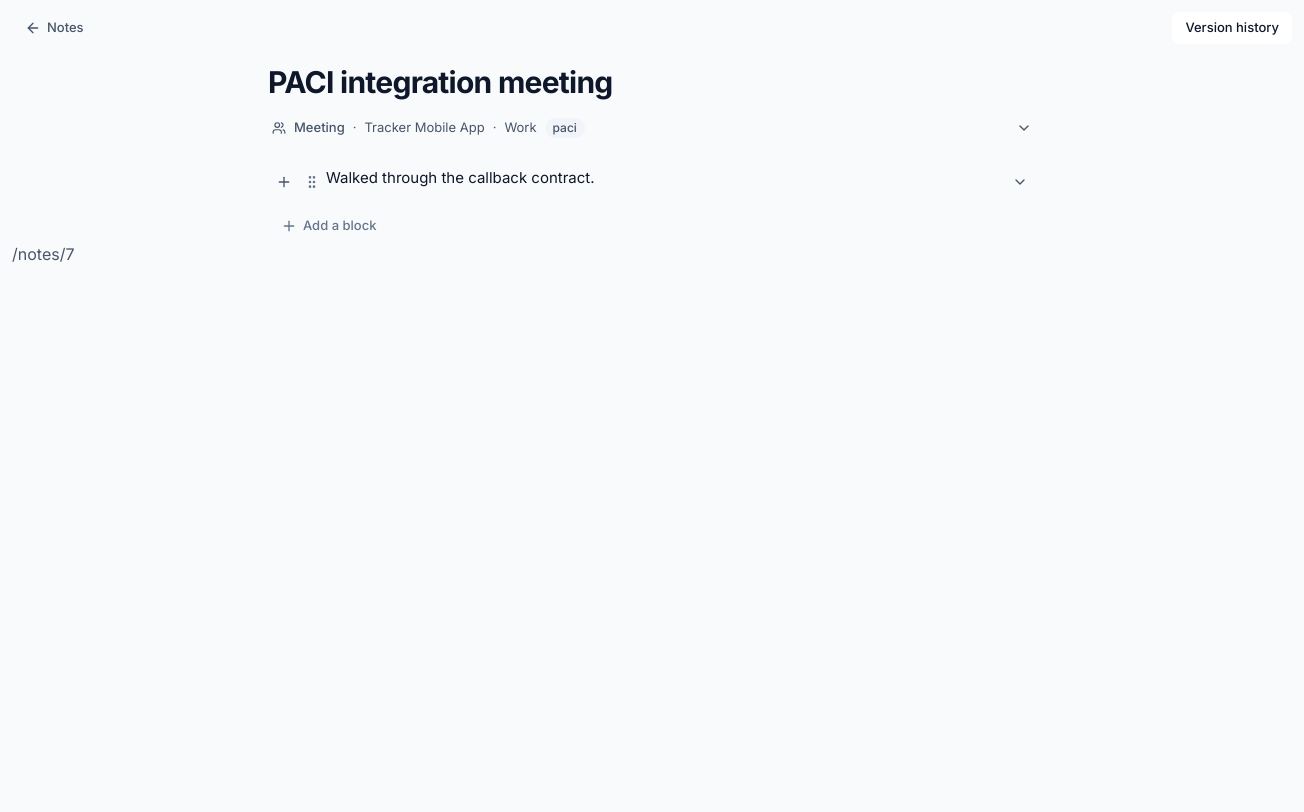
NotePage - version restore (blocking review on #301) › shows the restored title, body and blocks once the restore has succeeded
This screenshot has width=1304, height=812.
Expected: the 1st text box named "Note title" is shown, [268, 60, 1036, 104]
Click the button "Version history" at (1232, 28), box [1172, 12, 1292, 44]
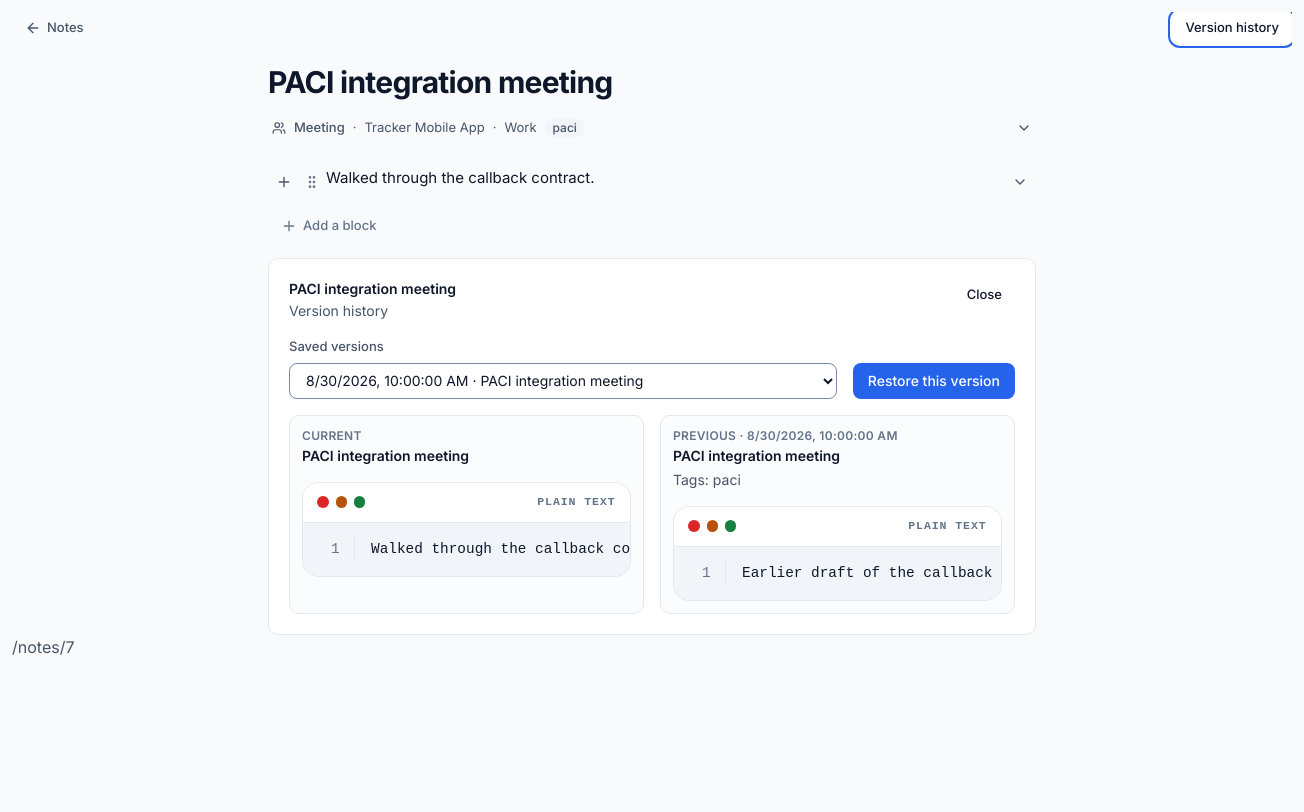
Click the button "Restore this version" at (934, 380), box [853, 362, 1015, 398]
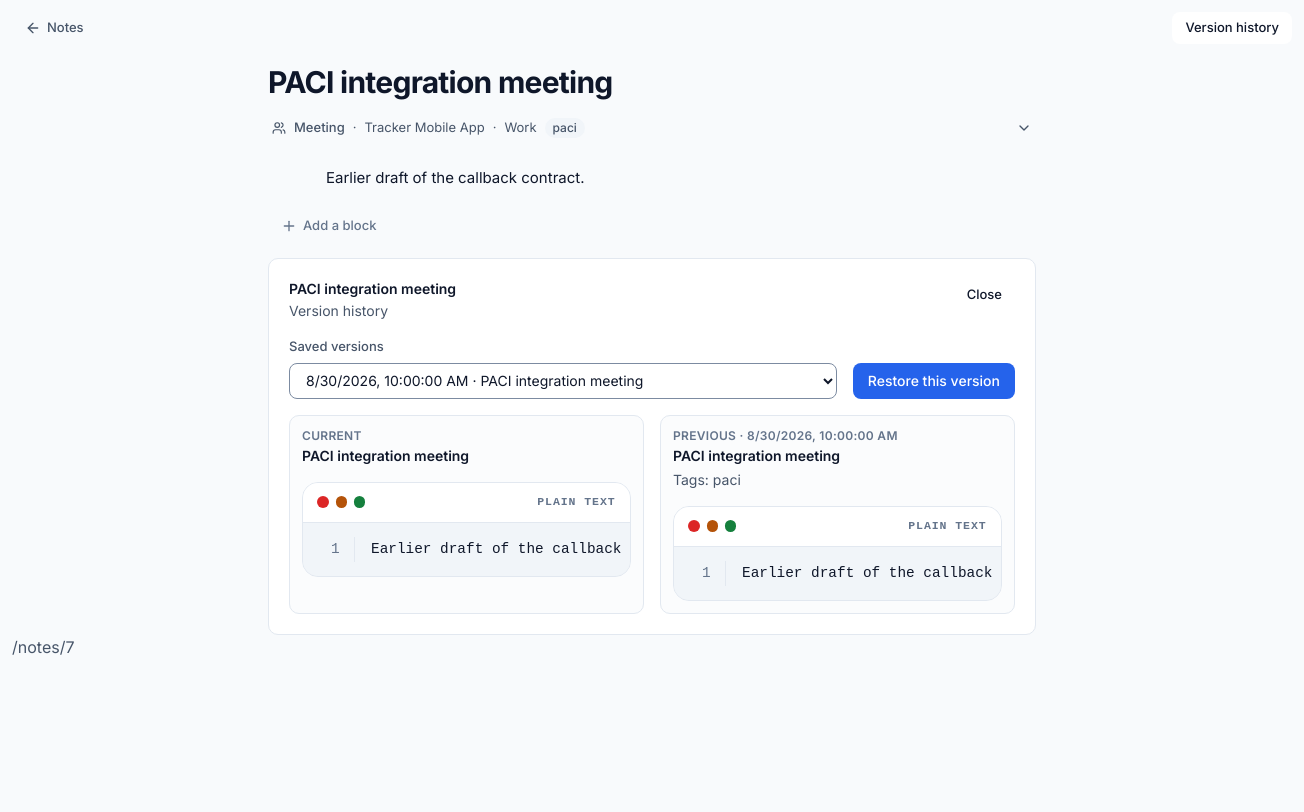
Expected: the 1st text box named "Note title" holds "PACI integration meeting", [268, 60, 1036, 104]
Now the 2nd text box holds "Earlier draft of the callback contract.", box [326, 162, 1000, 194]
